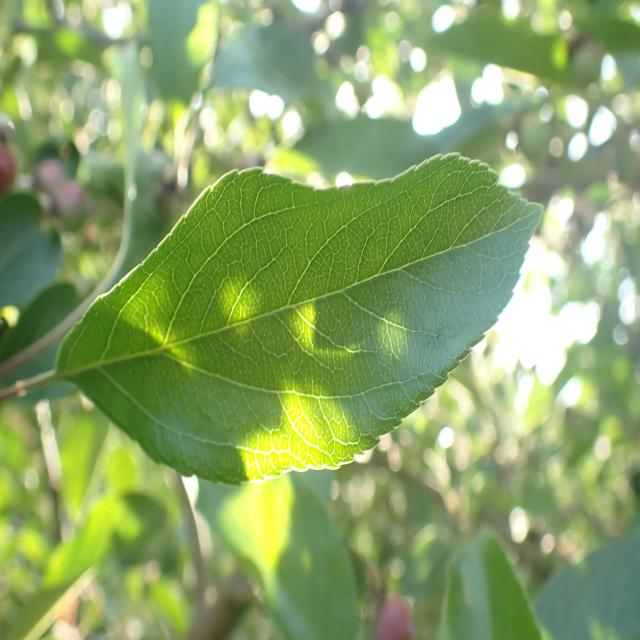healthy: (57, 150, 546, 486)
